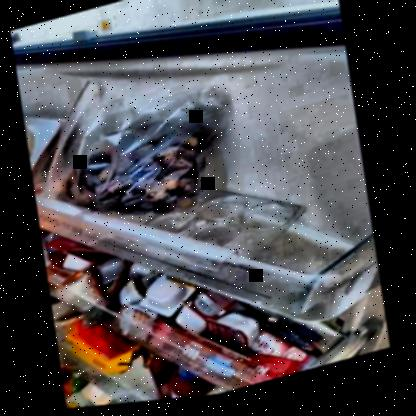butter: (64, 328, 133, 382)
dates: (60, 108, 219, 230)
milk: (81, 381, 121, 408)
